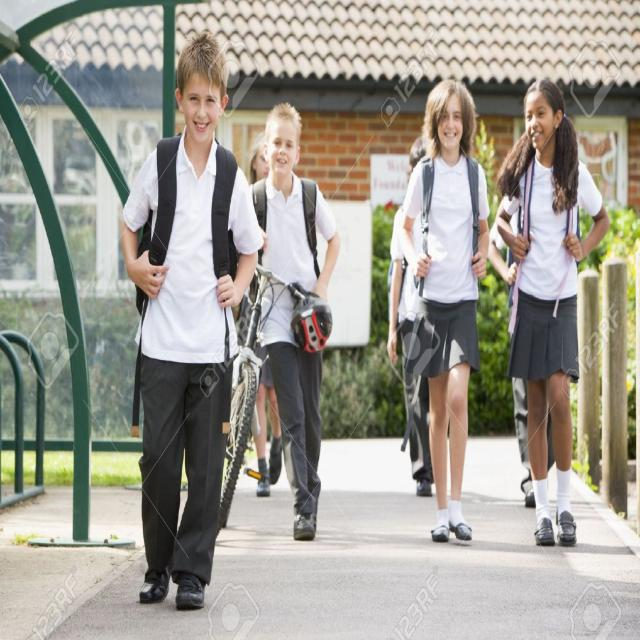body: (116, 25, 265, 616), (494, 70, 611, 550), (235, 99, 341, 548), (396, 71, 491, 547), (486, 189, 558, 510), (236, 128, 289, 500), (384, 133, 437, 500), (398, 150, 416, 189)
